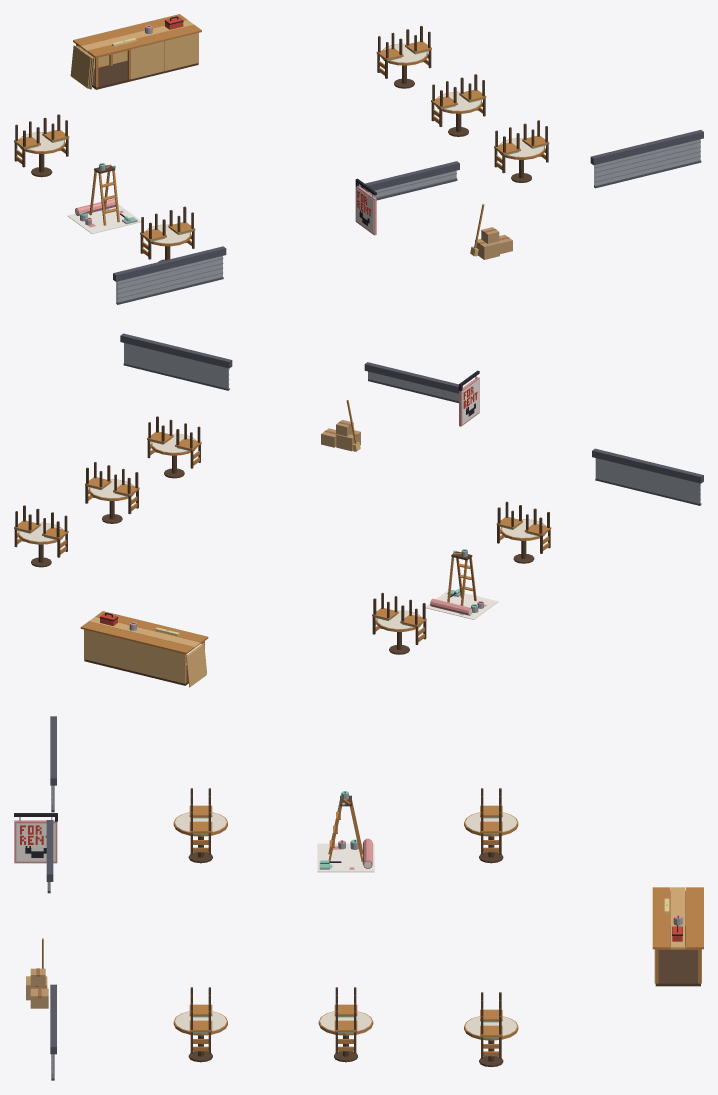
Rendered from CatCafe_Plot_ForRent_56x43.glb.
The picture shows the model from 3 angles, top to bottom: view 1: azimuth 30°, elevation 25°; view 2: azimuth 150°, elevation 25°; view 3: azimuth 270°, elevation 25°; orthographic projection. The views are drawn at different scales.
Parts seen in each view (by area): view 1: CatCafe_Plot_ForRent_56x43, CatCafe_Plot_ForRent_56x43_Shutter, CatCafe_Plot_ForRent_56x43_Sign; view 2: CatCafe_Plot_ForRent_56x43, CatCafe_Plot_ForRent_56x43_Shutter; view 3: CatCafe_Plot_ForRent_56x43, CatCafe_Plot_ForRent_56x43_Sign.
Part boxes in pixels (x1,y1,x2,y2): CatCafe_Plot_ForRent_56x43: [14, 14, 703, 281]; CatCafe_Plot_ForRent_56x43_Shutter: [116, 139, 701, 304]; CatCafe_Plot_ForRent_56x43_Sign: [356, 188, 373, 233]; CatCafe_Plot_ForRent_56x43: [14, 333, 703, 687]; CatCafe_Plot_ForRent_56x43_Shutter: [123, 343, 701, 505]; CatCafe_Plot_ForRent_56x43: [14, 716, 703, 1067]; CatCafe_Plot_ForRent_56x43_Sign: [16, 823, 55, 861].
Size of the model in its own units: 51.7 by 8.45 by 45.6.
Materials: 1 (1 with a texture image).
